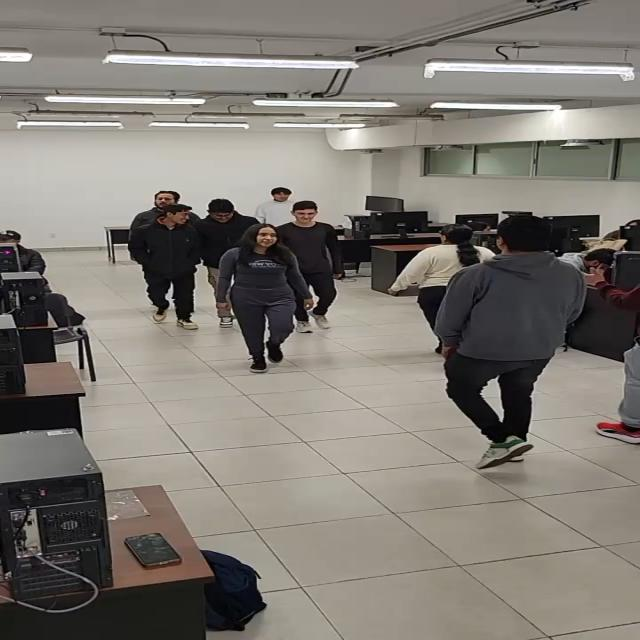Persona: (432, 215, 592, 470), (212, 222, 317, 374), (385, 225, 500, 358), (273, 200, 347, 334), (128, 203, 204, 331), (196, 198, 258, 330), (127, 190, 201, 236), (255, 186, 295, 226)
